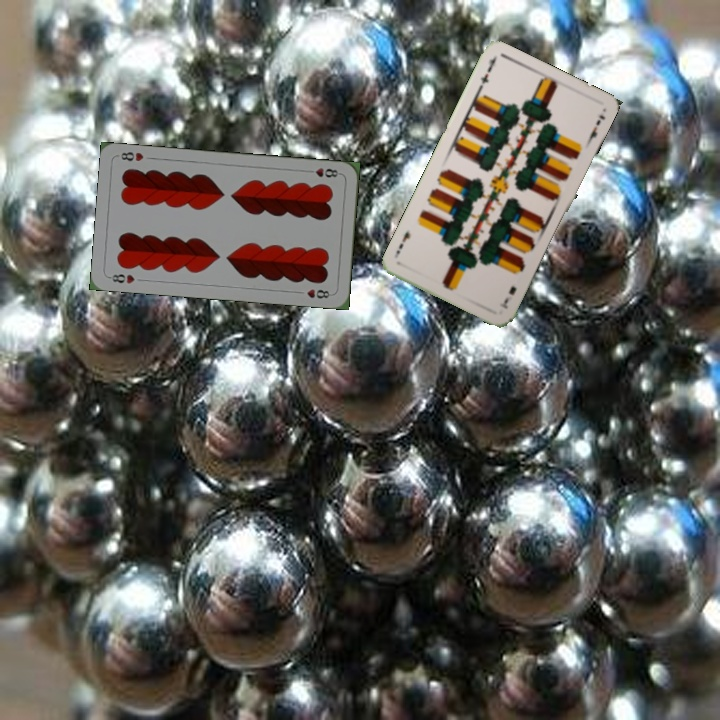E7: (474, 54, 498, 92), (497, 282, 519, 311)
H8: (302, 164, 343, 180), (105, 270, 137, 286)
